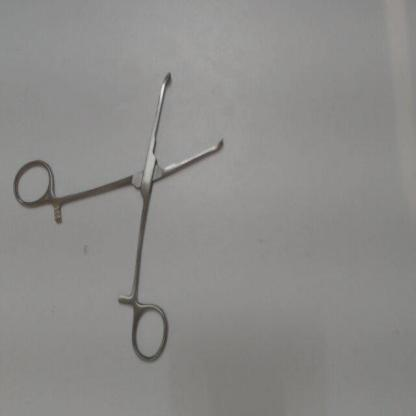Allis Tissue Forceps: (9, 56, 235, 369)
